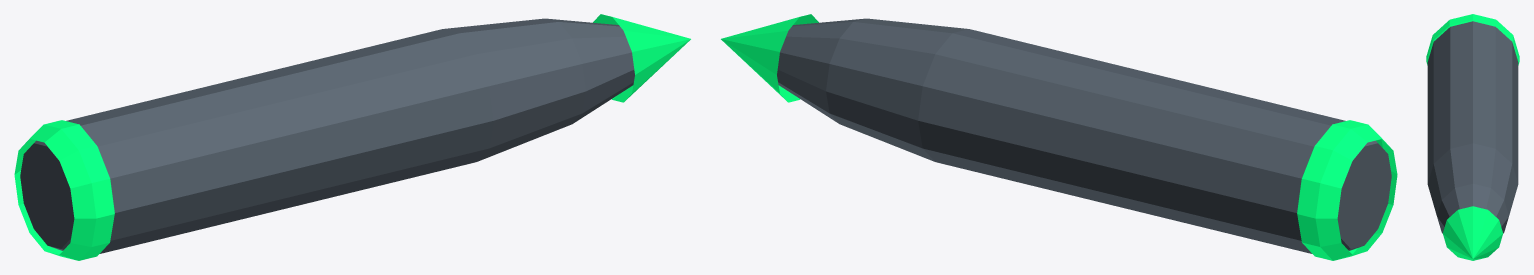
Rendered from f_italy.glb.
The picture shows the model from 3 angles, left to right: view 1: azimuth 30°, elevation 25°; view 2: azimuth 150°, elevation 25°; view 3: azimuth 270°, elevation 25°; orthographic projection. The views are drawn at different scales.
Parts seen in each view (by area): view 1: Projectile / tapered copper-alloy jacket.061, Projectile / rear tracer compound.061, Projectile / luminous nose.061; view 2: Projectile / tapered copper-alloy jacket.061, Projectile / rear tracer compound.061, Projectile / luminous nose.061; view 3: Projectile / tapered copper-alloy jacket.061, Projectile / luminous nose.061, Projectile / rear tracer compound.061.
Boxes of the visible parts, x1,y1,x2,y2 form: Projectile / tapered copper-alloy jacket.061: (20, 18, 634, 253); Projectile / rear tracer compound.061: (14, 120, 114, 260); Projectile / luminous nose.061: (593, 14, 690, 102); Projectile / tapered copper-alloy jacket.061: (777, 18, 1391, 253); Projectile / rear tracer compound.061: (1297, 120, 1397, 260); Projectile / luminous nose.061: (721, 14, 818, 102); Projectile / tapered copper-alloy jacket.061: (1427, 21, 1518, 233); Projectile / luminous nose.061: (1442, 206, 1503, 260); Projectile / rear tracer compound.061: (1426, 14, 1519, 65).
Size of the model in its own units: 0.424 by 0.08 by 0.08.
